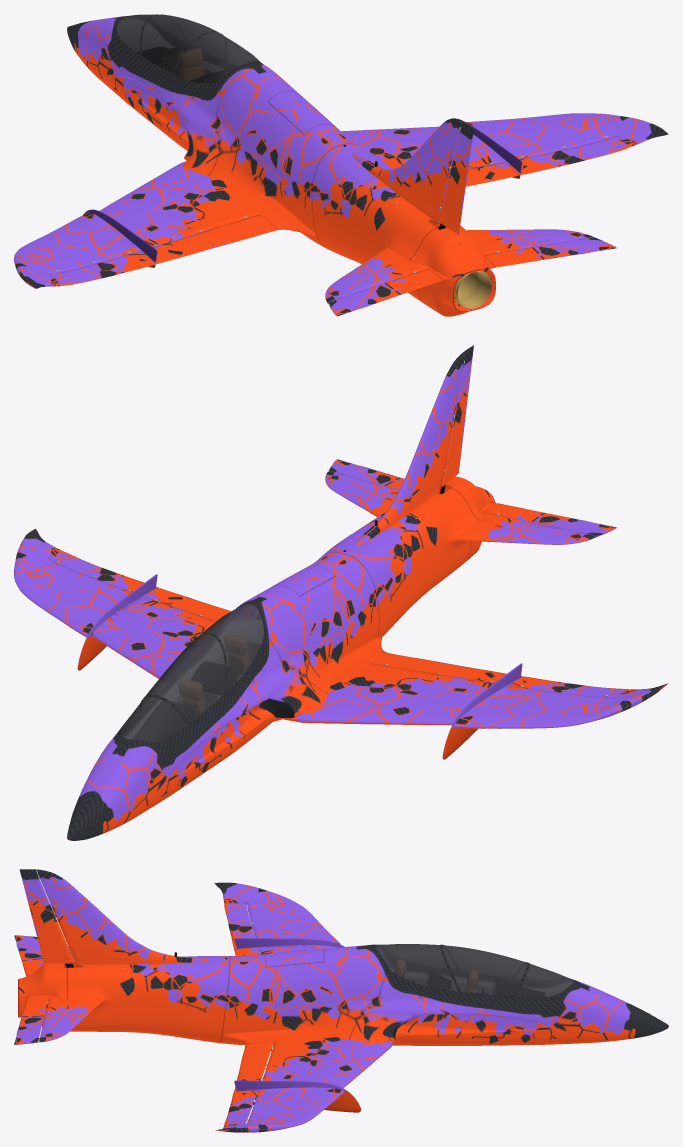
Rendered from jet.glb.
The picture shows the model from 3 angles, top to bottom: view 1: azimuth 30°, elevation 25°; view 2: azimuth 150°, elevation 25°; view 3: azimuth 270°, elevation 25°; orthographic projection. The views are drawn at different scales.
Visible parts, largest first — view 1: fuselage_core, wing_left_fixed, wing_right_fixed, canopy_frame, canopy_glass, horizontal_tail_fixed, vertical_tail_fixed, cockpit, flap_left, rudder, elevator_left, elevator_right (+4 smaller); view 2: fuselage_core, wing_left_fixed, wing_right_fixed, canopy_glass, canopy_frame, cockpit, vertical_tail_fixed, horizontal_tail_fixed, rudder, flap_left, elevator_left, aileron_right (+3 smaller); view 3: fuselage_core, wing_right_fixed, canopy_frame, canopy_glass, vertical_tail_fixed, wing_left_fixed, rudder, cockpit, horizontal_tail_fixed, elevator_right, flap_right, aileron_left (+2 smaller).
Part boxes in pixels (x1,y1,x2,y2): fuselage_core: (67, 16, 495, 316); wing_left_fixed: (14, 161, 316, 288); wing_right_fixed: (341, 113, 668, 178); canopy_frame: (112, 14, 358, 156); canopy_glass: (117, 14, 259, 83); horizontal_tail_fixed: (325, 229, 615, 315); vertical_tail_fixed: (352, 118, 467, 223); cockpit: (117, 17, 231, 82); flap_left: (154, 214, 277, 263); rudder: (438, 123, 473, 234); elevator_left: (329, 268, 441, 316); elevator_right: (483, 237, 616, 267); fuselage_core: (67, 476, 495, 840); wing_left_fixed: (279, 636, 668, 759); wing_right_fixed: (14, 528, 215, 678); canopy_glass: (117, 604, 263, 742); canopy_frame: (113, 550, 358, 752); cockpit: (124, 604, 263, 741); vertical_tail_fixed: (352, 350, 467, 546); horizontal_tail_fixed: (325, 469, 616, 544); rudder: (439, 345, 473, 494); flap_left: (370, 653, 506, 683); elevator_left: (483, 503, 616, 536); aileron_right: (49, 551, 144, 592); fuselage_core: (18, 956, 668, 1045); wing_right_fixed: (215, 1029, 393, 1132); canopy_frame: (224, 944, 578, 1005); canopy_glass: (376, 944, 573, 996); vertical_tail_fixed: (30, 869, 212, 969); wing_left_fixed: (214, 882, 344, 954); rudder: (19, 869, 74, 967); cockpit: (387, 960, 572, 995); horizontal_tail_fixed: (14, 946, 102, 1044); elevator_right: (14, 997, 48, 1044); flap_right: (234, 1041, 273, 1090); aileron_left: (224, 902, 255, 948).
Bounding box in the file's own units: 2 × 0.6482 × 2.24.
Materials: 26 (8 with a texture image).
